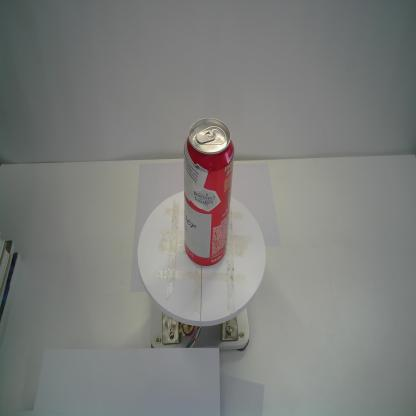Alcohol: (183, 117, 235, 267)
